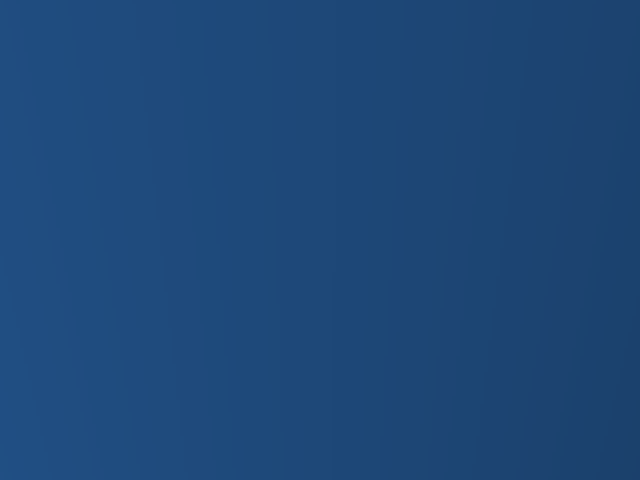goal_zone: (22, 193, 142, 221)
puck: (400, 250, 419, 273)
